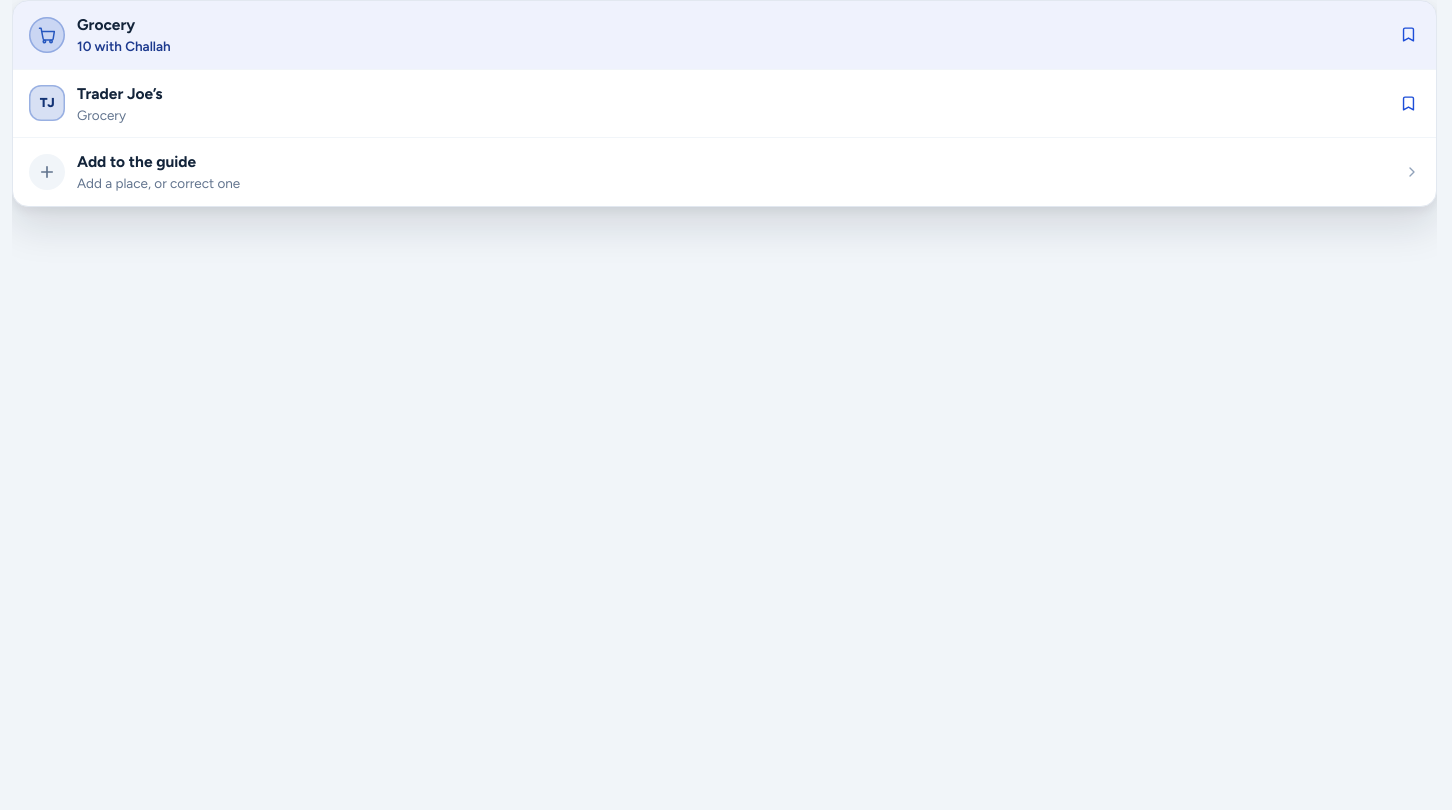
SearchLines — saving from a line › a kind of place’s bookmark saves the search, filled once saved, without opening the line
What coordinates should you click on to do the following:
click the button named "Save “challah” in Grocery"
I would click on:
 (1408, 35)
Its box is [1390,17,1426,53].
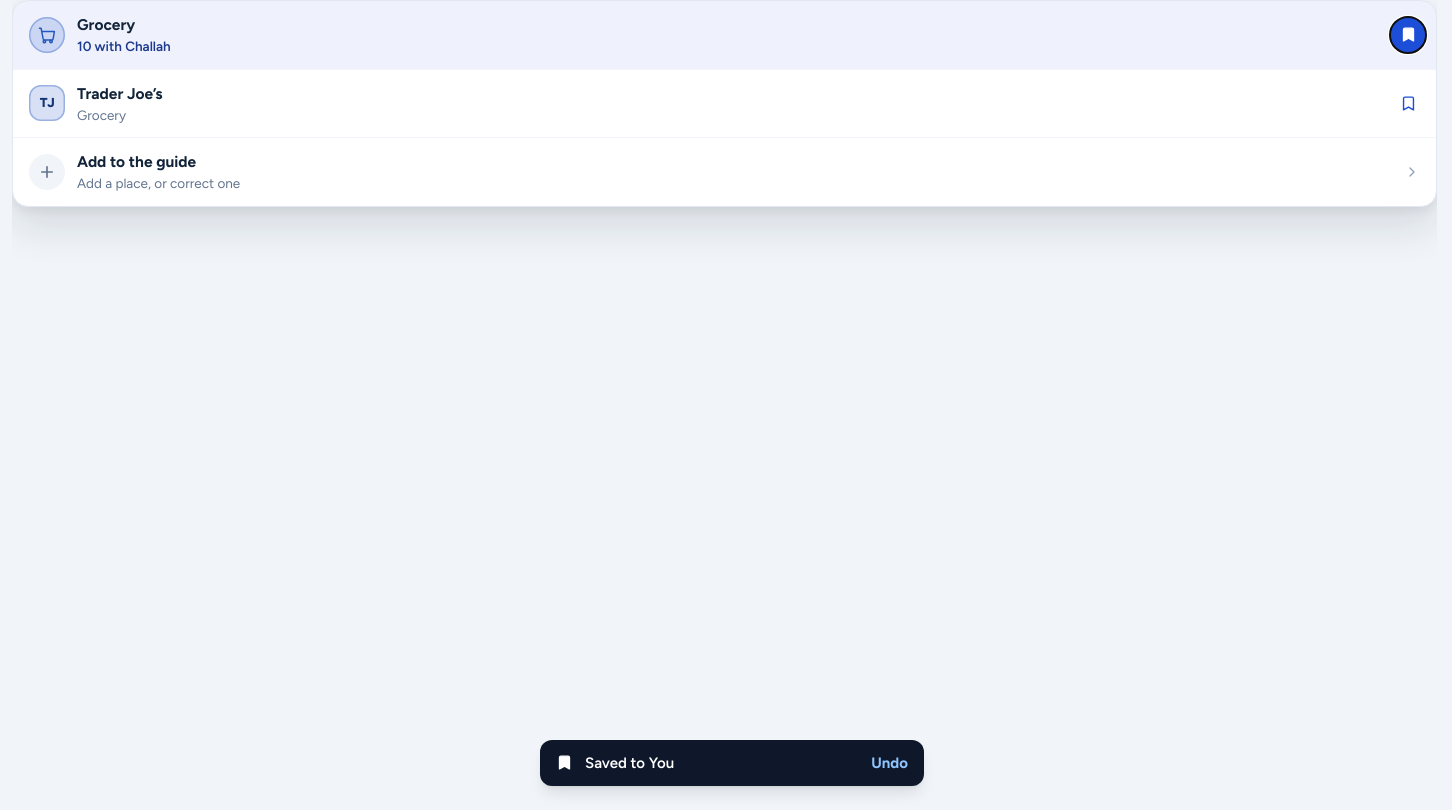
Expected: the message with test id "undo-toast" shows "Saved to You", [585,754,674,772]
